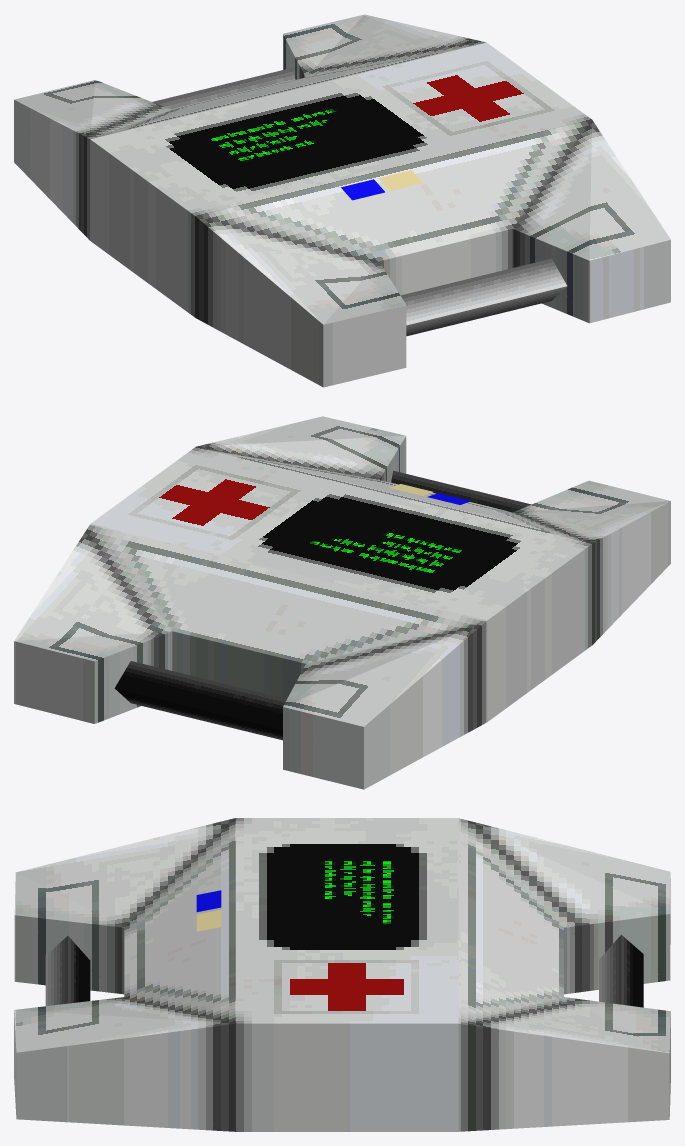
File: MEDKIT.glb
3 views of the same model, one above another, from view 1: azimuth 30°, elevation 25°; view 2: azimuth 150°, elevation 25°; view 3: azimuth 270°, elevation 25° (orthographic). The views are drawn at different scales.
Visible parts, largest first — view 1: Box03; view 2: Box03; view 3: Box03.
Boxes of the visible parts, x1=… form: Box03: x1=14, y1=14, x2=670, y2=387; Box03: x1=14, y1=416, x2=670, y2=789; Box03: x1=14, y1=818, x2=670, y2=1131.
Bounding box in the file's own units: 1.4 × 0.3515 × 1.89.
5 materials, 5 textured.
